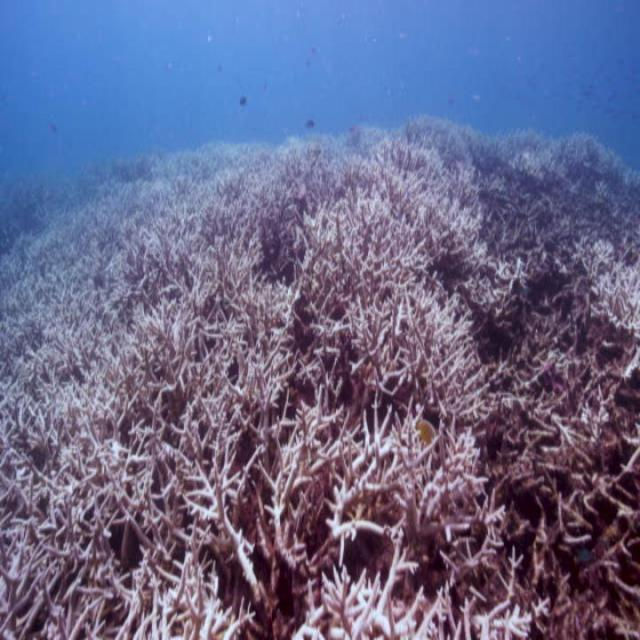Dead Coral: (28, 182, 621, 624)
